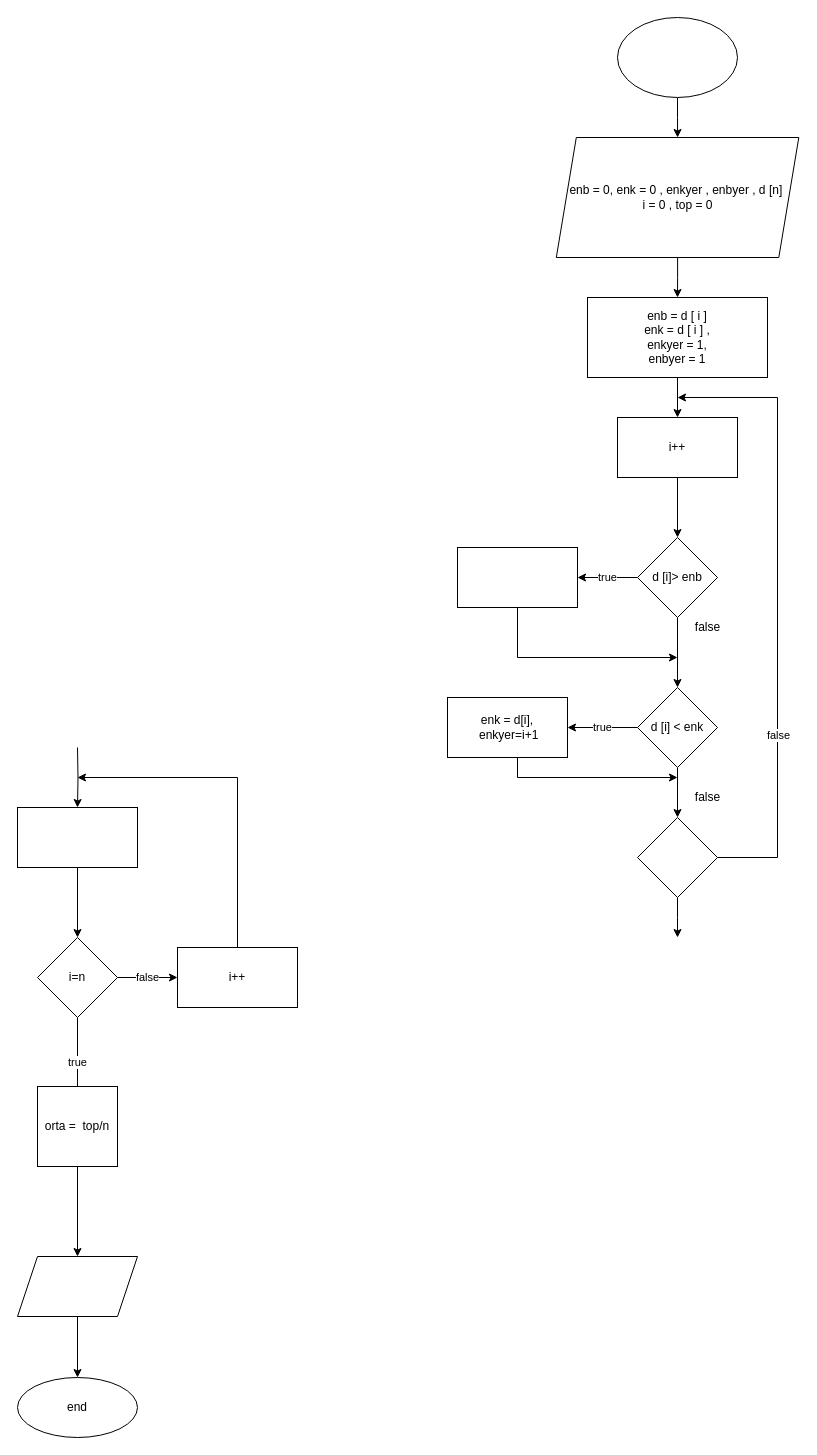
Image size: 817x1455. Some labels were removed from this diagram. The centre of each missing label's shape, as x and y in pixels:
enb = d[i] , enbyer=i+1: (517,577)
i= n-1: (677,857)
print orta: (77,1286)
start: (677,57)
top = top +d[ i ]: (77,837)
